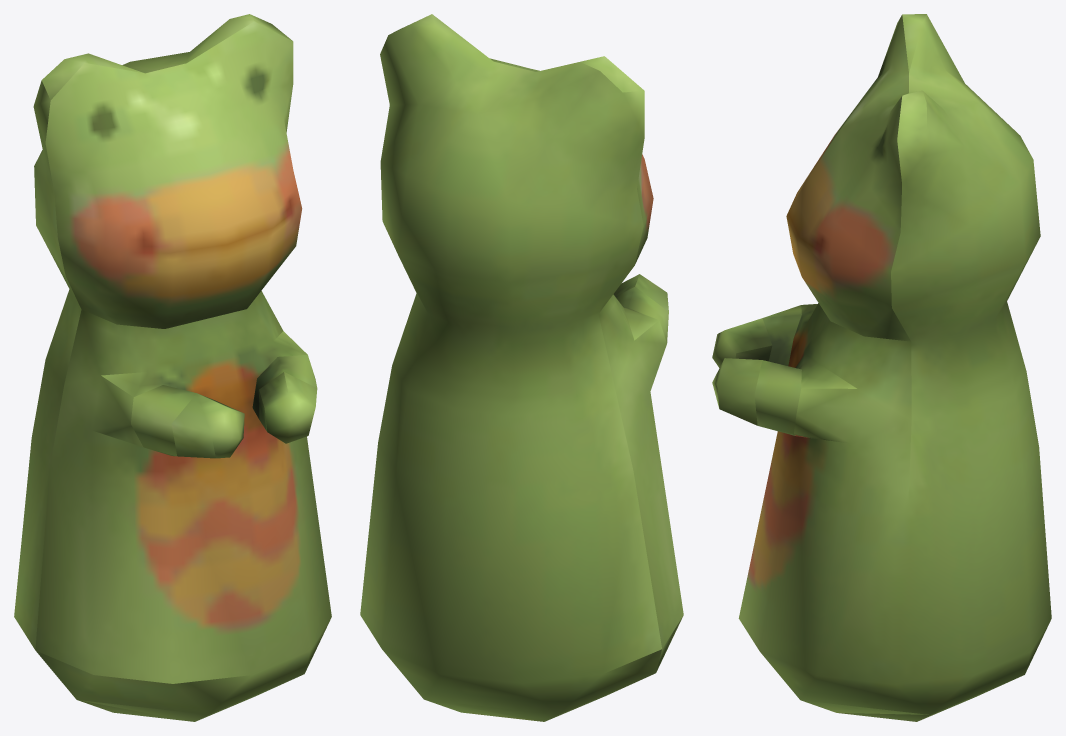
The model's file is jugueteSensorial_Rana.fbx.
3 renders of one model, left to right at view 1: azimuth 30°, elevation 25°; view 2: azimuth 150°, elevation 25°; view 3: azimuth 270°, elevation 25°, orthographic. The views are drawn at different scales.
Visible parts, largest first — view 1: s4studio_mesh_0; view 2: s4studio_mesh_0; view 3: s4studio_mesh_0.
Part boxes in pixels (x1,y1,x2,y2): s4studio_mesh_0: (14,14,331,721); s4studio_mesh_0: (360,14,683,721); s4studio_mesh_0: (712,14,1051,721).
Size of the model in its own units: 8.46 by 19.3 by 9.18.
Materials: 1 (1 with a texture image).
